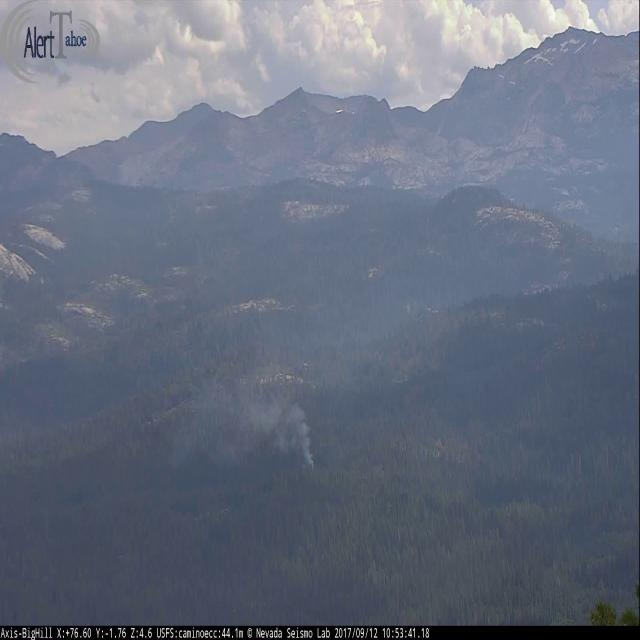smoke: (154, 383, 319, 473)
